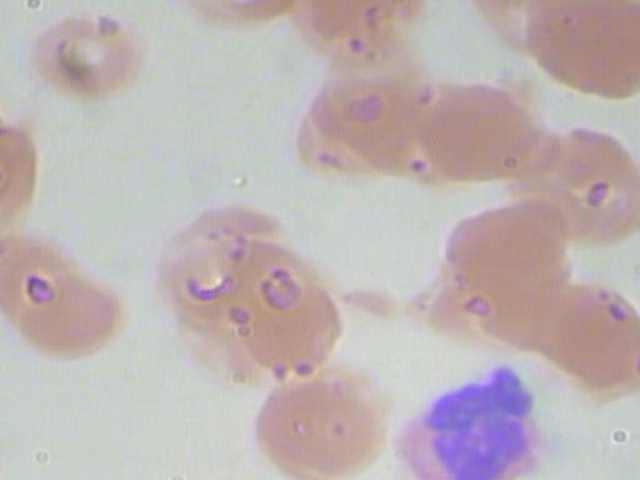RBC: (11, 0, 169, 117), (240, 370, 399, 480), (511, 117, 640, 252), (6, 249, 142, 373), (414, 77, 545, 186), (439, 194, 570, 302), (530, 279, 640, 403), (528, 0, 640, 99)
WBC: (389, 362, 555, 480)
